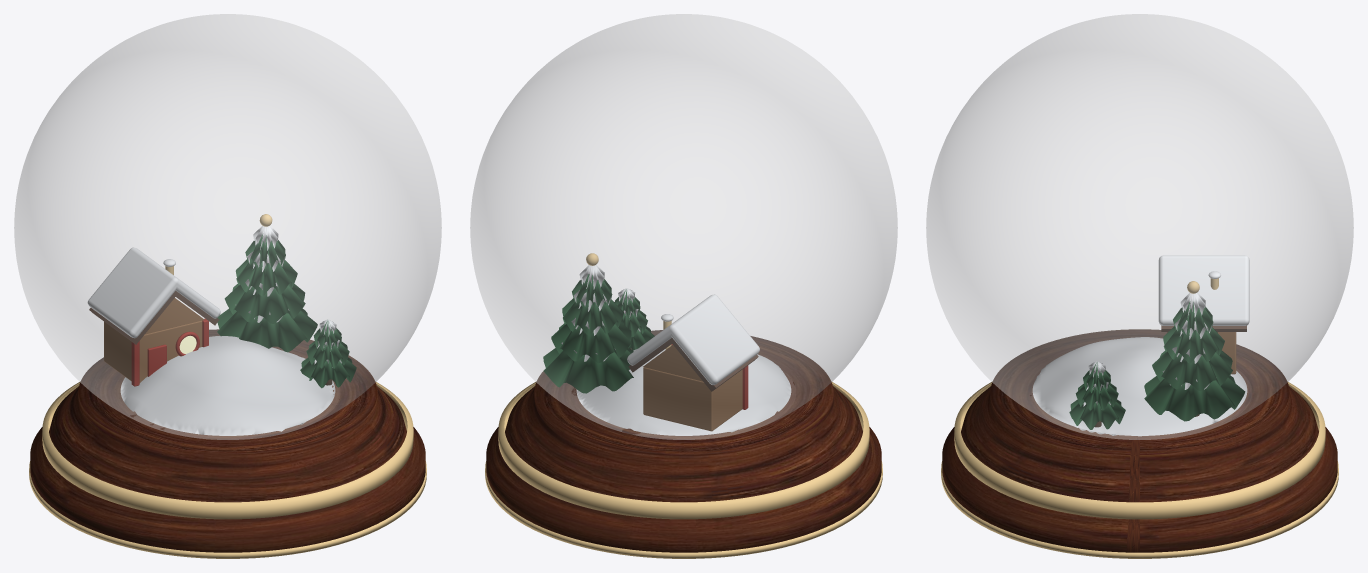
Rendered from snow_globe.glb.
The picture shows the model from 3 angles, left to right: view 1: azimuth 30°, elevation 25°; view 2: azimuth 150°, elevation 25°; view 3: azimuth 270°, elevation 25°; orthographic projection.
Parts seen in each view (by area): view 1: Glass, base, snow_ground, band, c_snowroof-1, feet_ring, t_tier0, c_walls, t_tier1, t_tier2, t2_tier0, c_gable (+3 smaller); view 2: Glass, base, band, snow_ground, c_walls, c_snowroof-1, feet_ring, t_tier0, t_tier1, t_tier2, c_gable_b, t_tier3 (+1 smaller); view 3: Glass, base, snow_ground, band, c_snowroof1, t_tier0, feet_ring, t_tier1, t_tier2, t2_tier0, t_tier3, t2_tier1.
Part boxes in pixels (x1=…): Glass: x1=14, y1=14, x2=441, y2=439; base: x1=30, y1=329, x2=425, y2=552; snow_ground: x1=120, y1=336, x2=335, y2=435; band: x1=42, y1=381, x2=413, y2=519; c_snowroof-1: x1=87, y1=247, x2=177, y2=338; feet_ring: x1=29, y1=461, x2=426, y2=558; t_tier0: x1=217, y1=308, x2=317, y2=352; c_walls: x1=104, y1=321, x2=202, y2=382; t_tier1: x1=224, y1=283, x2=305, y2=323; t_tier2: x1=235, y1=259, x2=297, y2=296; t2_tier0: x1=300, y1=357, x2=356, y2=388; c_gable: x1=145, y1=298, x2=204, y2=334; Glass: x1=470, y1=14, x2=897, y2=439; base: x1=486, y1=330, x2=881, y2=552; band: x1=498, y1=381, x2=869, y2=519; snow_ground: x1=576, y1=349, x2=791, y2=435; c_walls: x1=643, y1=367, x2=742, y2=431; c_snowroof-1: x1=670, y1=294, x2=759, y2=384; feet_ring: x1=485, y1=461, x2=882, y2=558; t_tier0: x1=543, y1=348, x2=633, y2=393; t_tier1: x1=551, y1=322, x2=631, y2=363; t_tier2: x1=562, y1=298, x2=623, y2=335; c_gable_b: x1=643, y1=345, x2=702, y2=381; t_tier3: x1=572, y1=274, x2=612, y2=307; Glass: x1=926, y1=14, x2=1353, y2=439; base: x1=942, y1=329, x2=1337, y2=552; snow_ground: x1=1032, y1=337, x2=1247, y2=436; band: x1=954, y1=381, x2=1325, y2=519; c_snowroof1: x1=1158, y1=256, x2=1249, y2=325; t_tier0: x1=1144, y1=375, x2=1245, y2=421; feet_ring: x1=941, y1=461, x2=1338, y2=558; t_tier1: x1=1152, y1=350, x2=1232, y2=391; t_tier2: x1=1163, y1=326, x2=1224, y2=363; t2_tier0: x1=1069, y1=399, x2=1125, y2=429; t_tier3: x1=1173, y1=301, x2=1213, y2=335; t2_tier1: x1=1075, y1=383, x2=1118, y2=410.
Size of the model in its own units: 0.8 by 0.91 by 0.8.
Materials: 10 (1 with a texture image).
